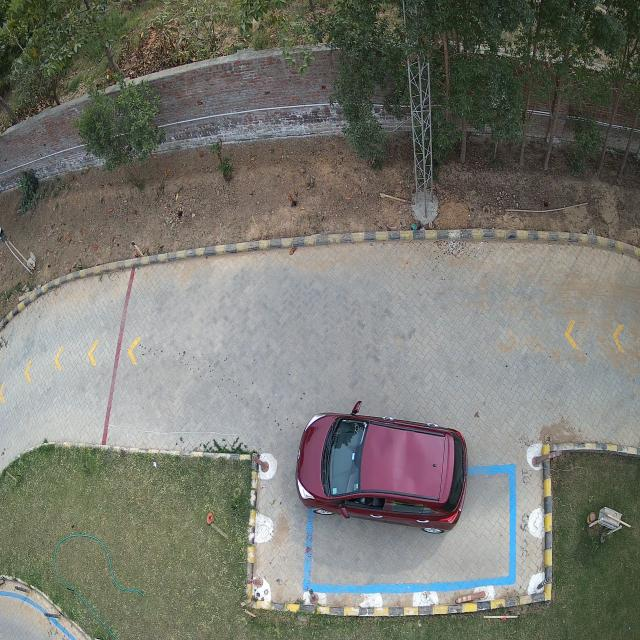car: (297, 413, 468, 534)
